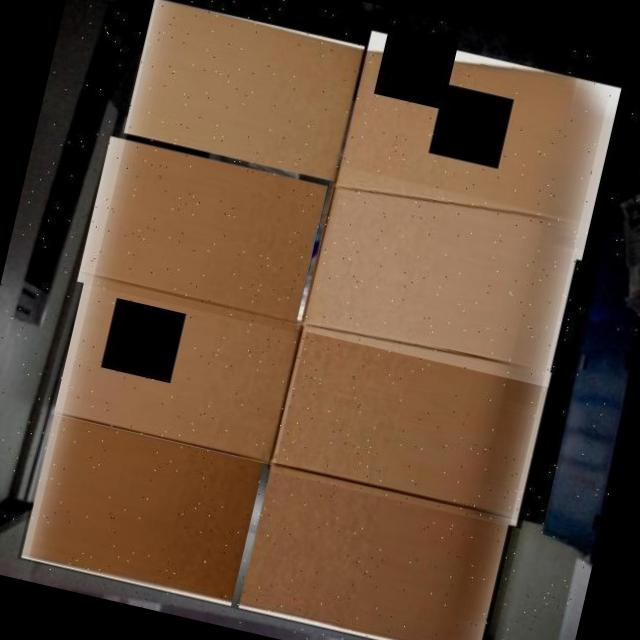box: (327, 25, 626, 264), (296, 164, 590, 388), (263, 312, 556, 528), (73, 132, 332, 334), (234, 455, 516, 640), (49, 268, 308, 466), (17, 406, 270, 608), (120, 0, 368, 182)
